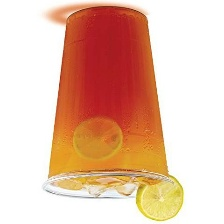glass: (32, 0, 188, 204)
